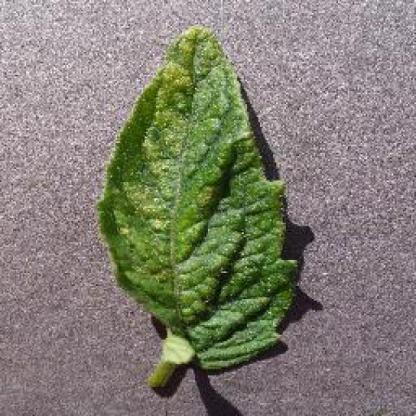Tomato_Spider_Mites: (102, 26, 297, 366)
